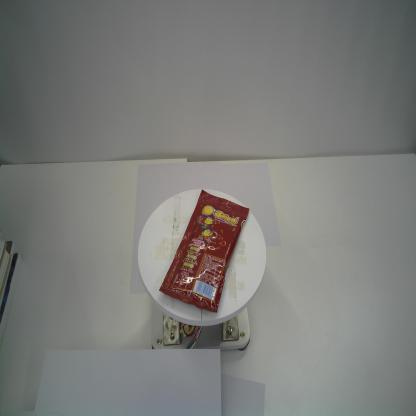Candy: (158, 189, 250, 313)
